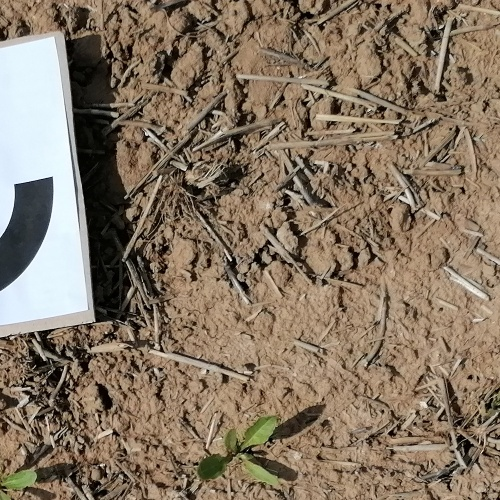beet: (198, 412, 281, 489), (0, 469, 38, 500)
